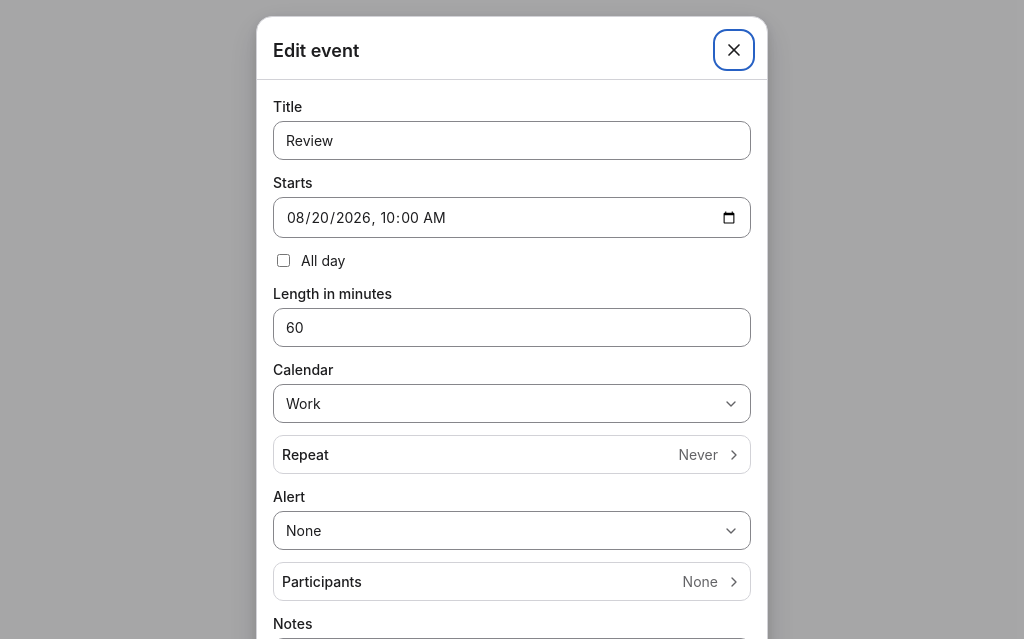
Scenario: reminders › offers a second reminder only once the first is set
Check: the field labelled "Second alert" is not shown
Select "15 minutes before" in the dropdown labelled "Alert" at point(512, 530), box left=273, top=511, right=751, bottom=550
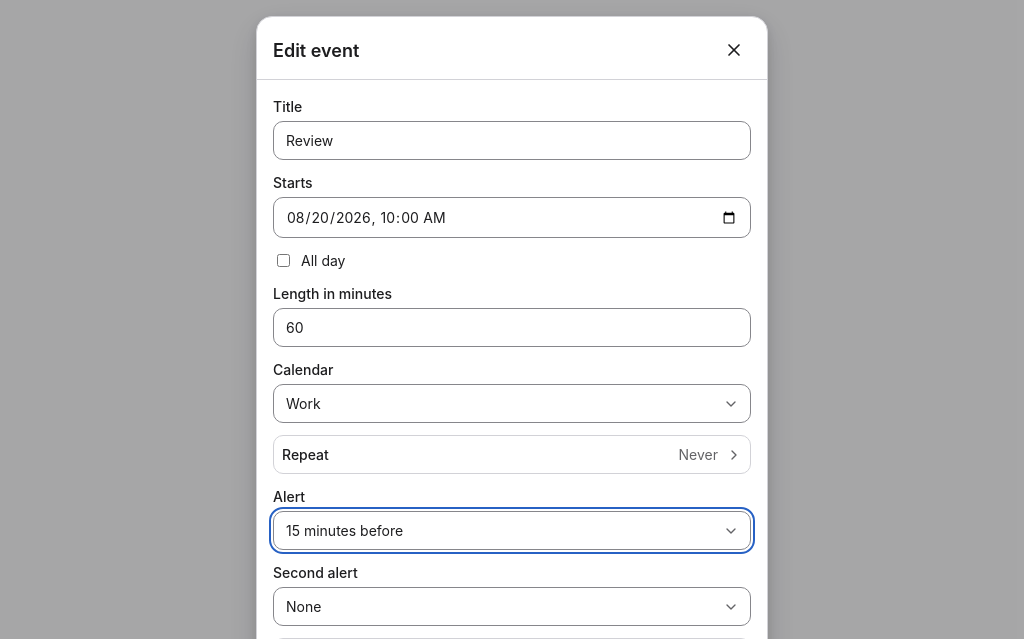
Check: the dropdown labelled "Second alert" is shown, box left=273, top=587, right=751, bottom=626
